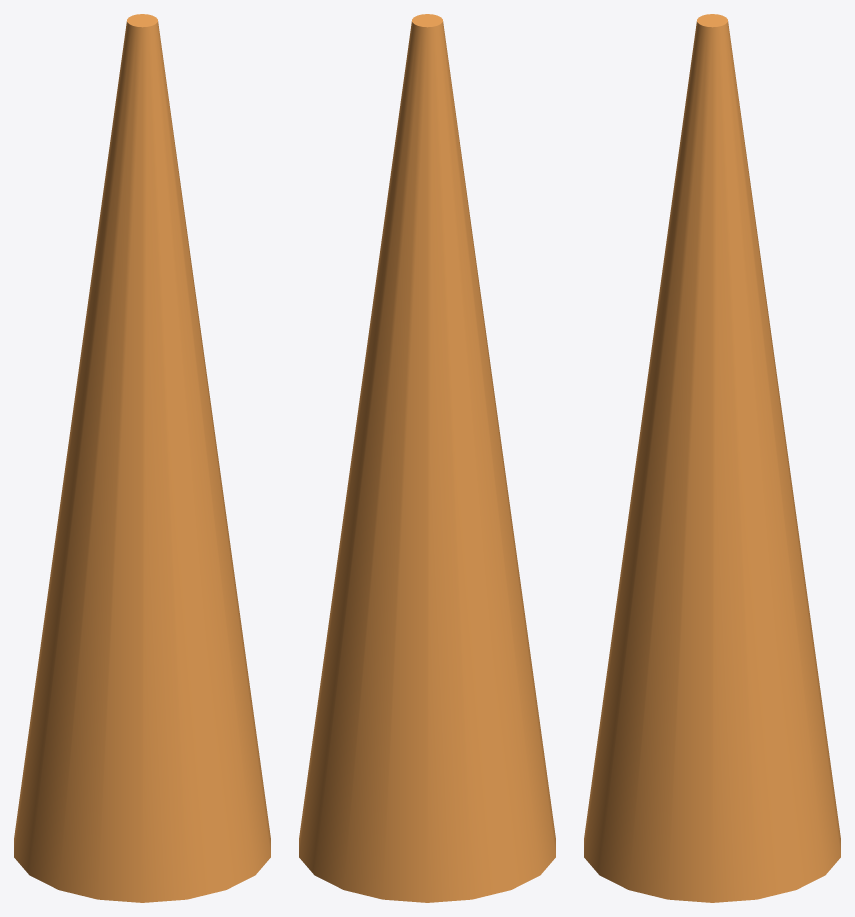
Rendered from flame.glb.
3 views of the same model, side by side, from view 1: azimuth 30°, elevation 25°; view 2: azimuth 150°, elevation 25°; view 3: azimuth 270°, elevation 25° (orthographic).
Parts seen in each view (by area): view 1: 外焰; view 2: 外焰; view 3: 外焰.
Boxes of the visible parts, x1,y1,x2,y2 form: 外焰: (14,14,270,902); 外焰: (299,14,555,902); 外焰: (584,14,840,902).
Bounding box in the file's own units: 2 × 7 × 1.97.
